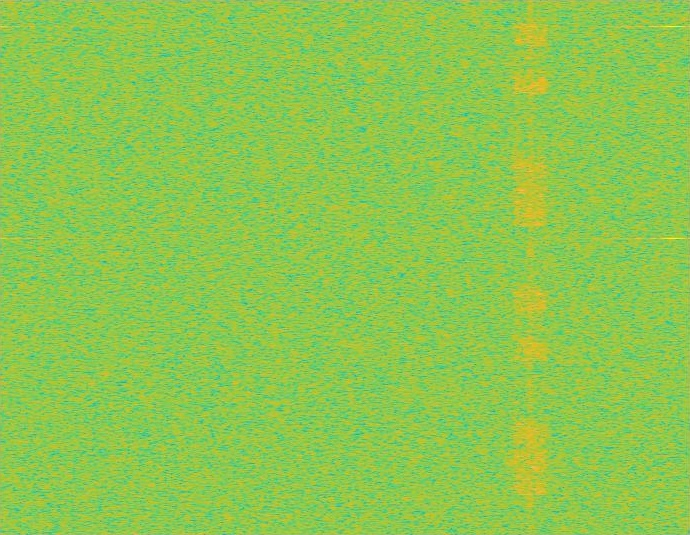DSSS: (528, 0, 533, 534)
LTE: (513, 0, 548, 534)
Radar: (666, 0, 680, 534)
